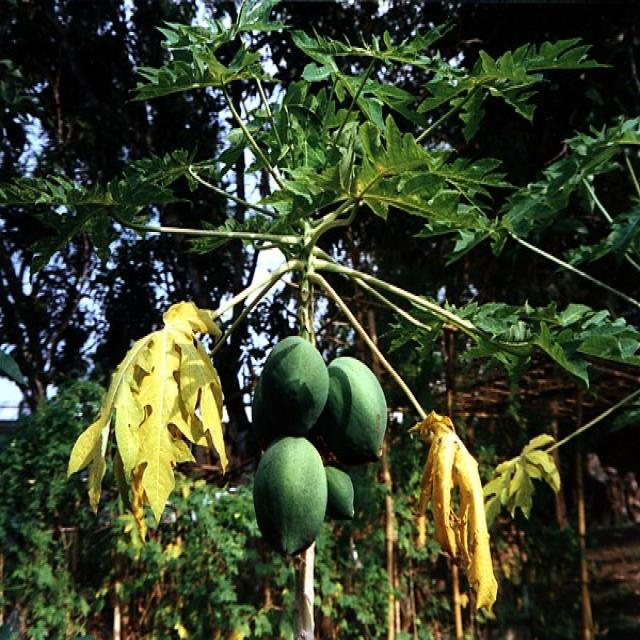Papaya-Tree: (104, 22, 608, 640)
